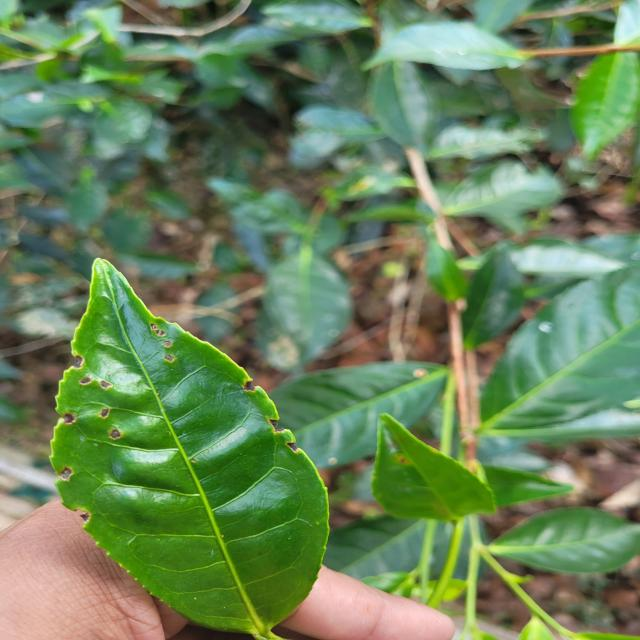Category D 7+ days, Not for Tea: (36, 237, 350, 640)
